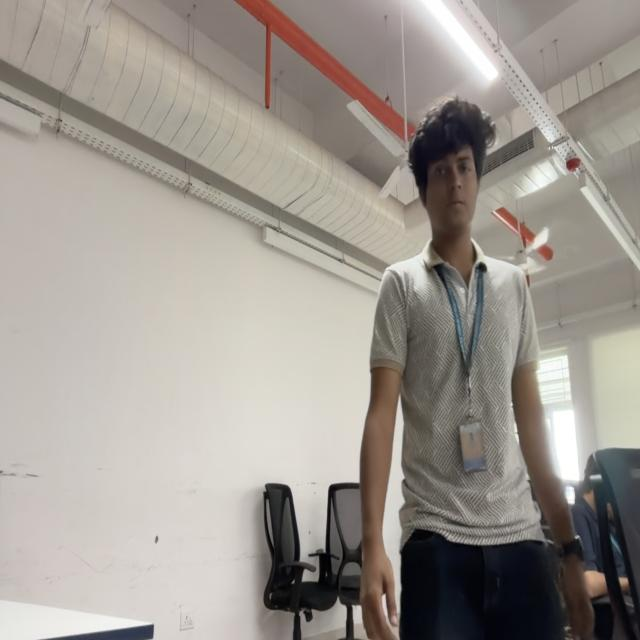kshitij: (409, 102, 489, 235)
